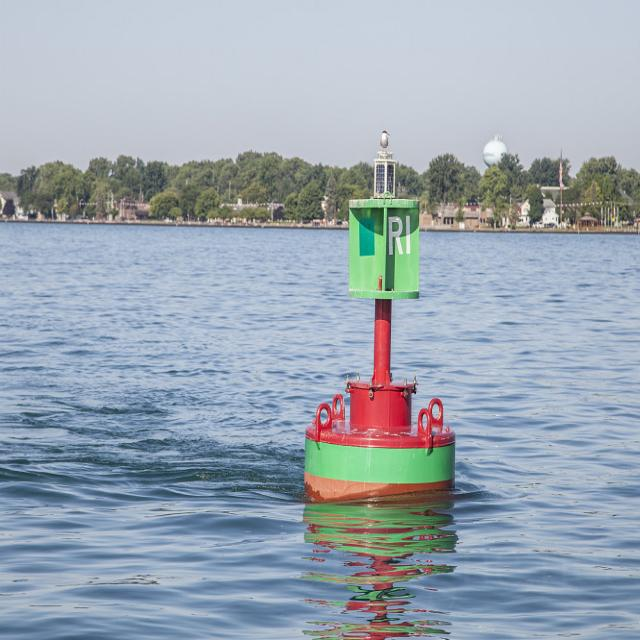2.1 preferred channel to port: (284, 118, 481, 513)
